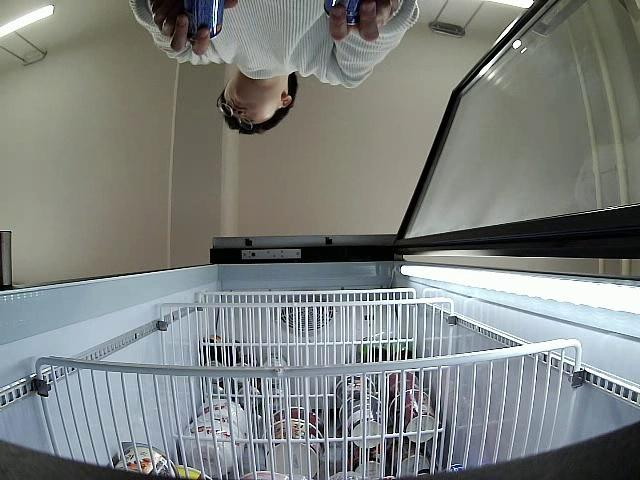00_hand: (152, 0, 239, 57), (329, 0, 401, 40)
16_hot6: (168, 0, 223, 43), (325, 2, 362, 29)
